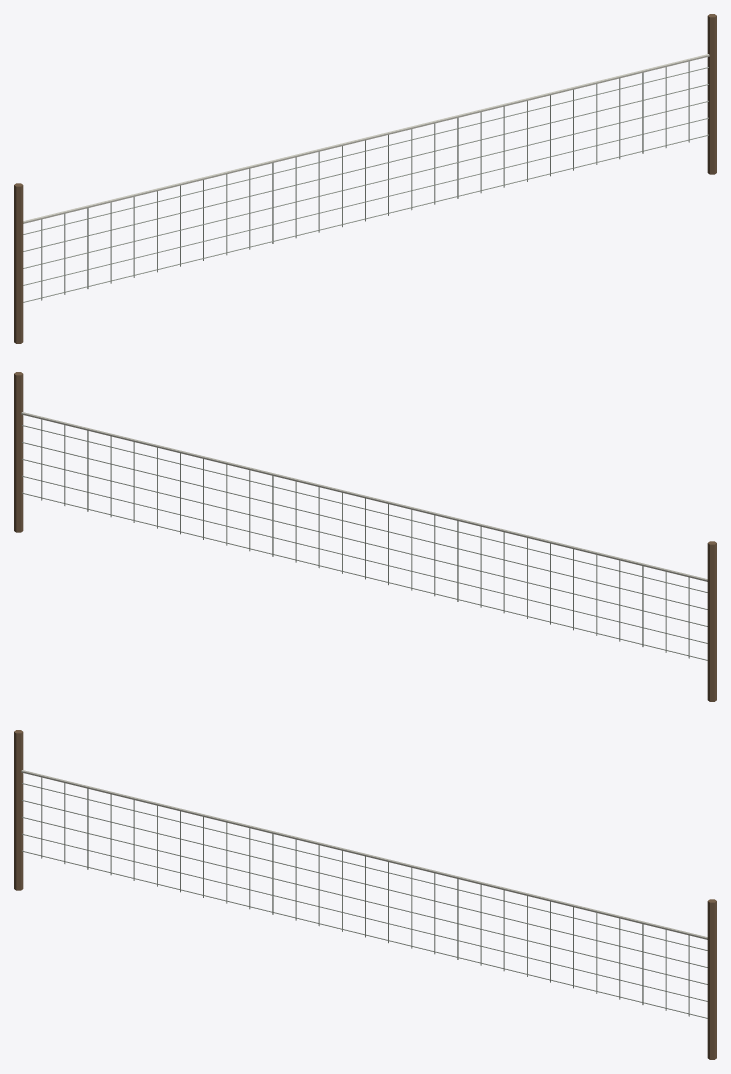
Rendered from thai_net.glb.
3 views of the same model, one above another, from view 1: azimuth 30°, elevation 25°; view 2: azimuth 150°, elevation 25°; view 3: azimuth 330°, elevation 25° (orthographic).
Visible parts, largest first — view 1: thai_net; view 2: thai_net; view 3: thai_net.
Boxes of the visible parts, <box> form: thai_net: <box>14,14,716,343</box>; thai_net: <box>14,372,716,701</box>; thai_net: <box>14,730,716,1059</box>.
Size of the model in its own units: 6.06 by 1.3 by 0.0703.
